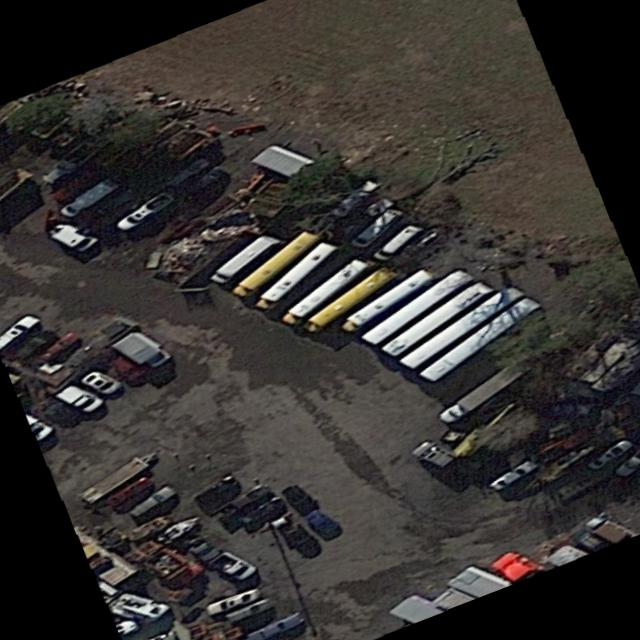large-vehicle: (399, 284, 523, 369), (419, 296, 542, 381), (361, 268, 475, 345), (382, 281, 495, 355), (433, 357, 534, 428), (303, 266, 401, 331), (340, 267, 438, 331), (280, 257, 373, 324), (254, 241, 341, 309), (233, 230, 321, 296), (209, 235, 278, 282), (112, 330, 175, 368)
ship: (155, 511, 209, 544)
small-vehicle: (366, 218, 433, 262), (349, 206, 411, 250), (114, 190, 177, 233), (59, 177, 123, 219), (327, 176, 385, 216), (26, 329, 84, 367), (247, 606, 311, 640), (46, 219, 106, 254), (216, 483, 274, 519), (125, 484, 180, 520), (204, 585, 263, 618), (206, 548, 261, 583), (406, 439, 463, 472), (231, 494, 284, 529), (103, 475, 158, 508), (190, 471, 241, 505), (490, 458, 540, 492), (588, 438, 638, 470), (56, 384, 106, 414), (102, 352, 146, 384), (226, 596, 276, 624), (282, 482, 321, 514), (79, 369, 124, 396), (181, 533, 221, 563), (298, 509, 344, 535), (614, 450, 640, 476)
